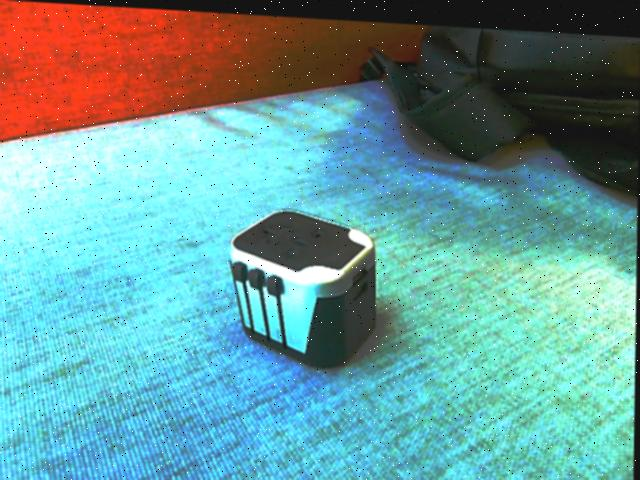adapter: (227, 202, 379, 366)
